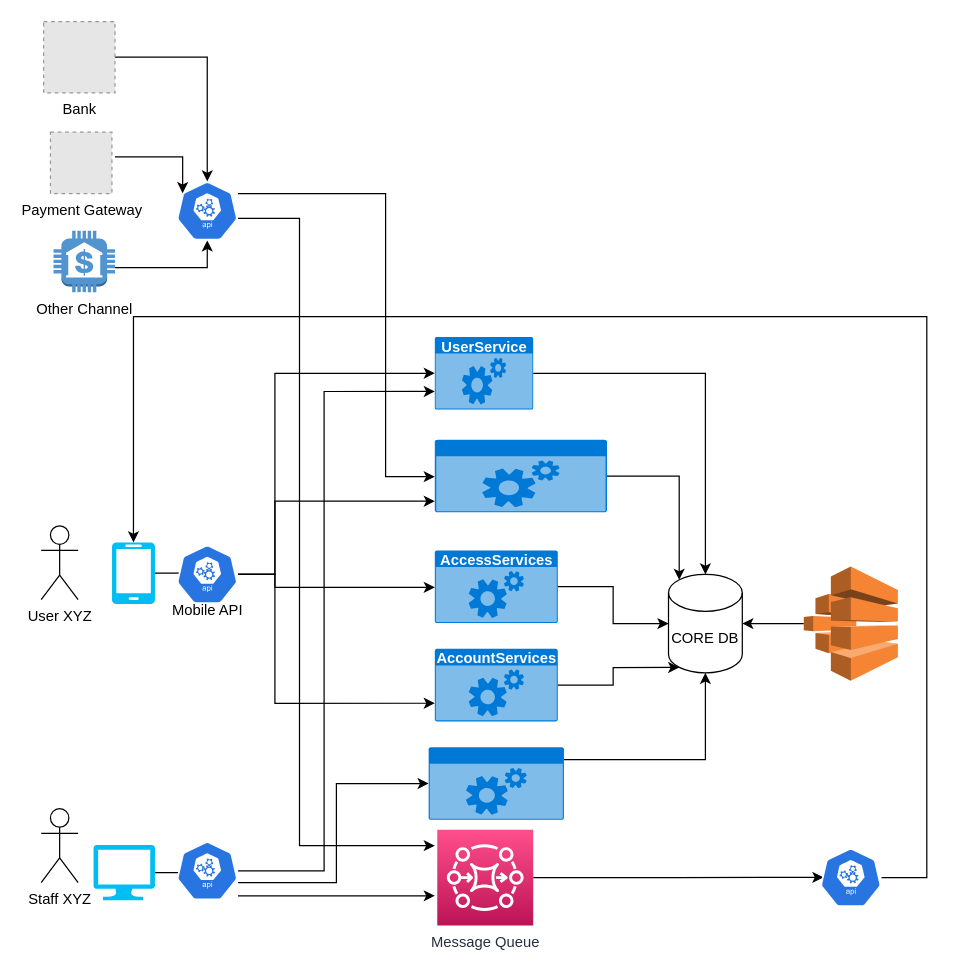
The diagram is 958 pixels wide and 973 high, and some of its shapes have lost their labels. Grey dashed boxes stand in for pictures. Here are the shapes that lost their labels. From the top down, the centre of each, then its label:
[206,210]: Payment API
[520,475]: TransactionServices
[850,623]: BATCH
[495,783]: ApprovalServices
[206,870]: Web API
[850,877]: NotificationAPI
